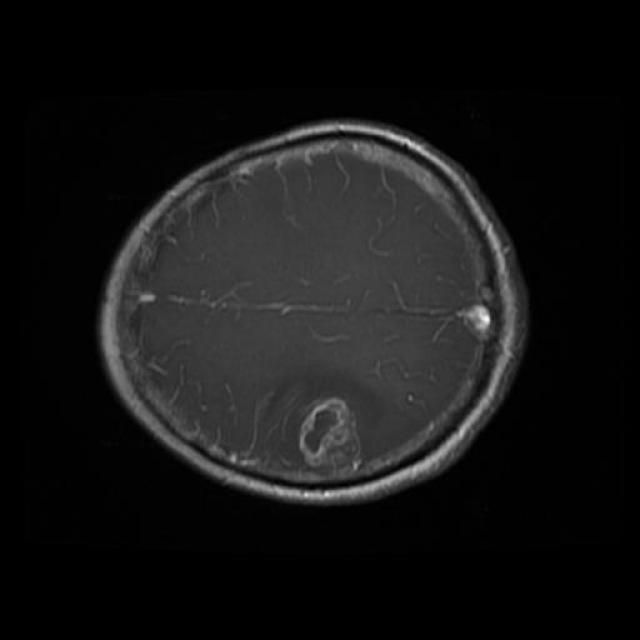Glioma: (299, 397, 358, 469)
